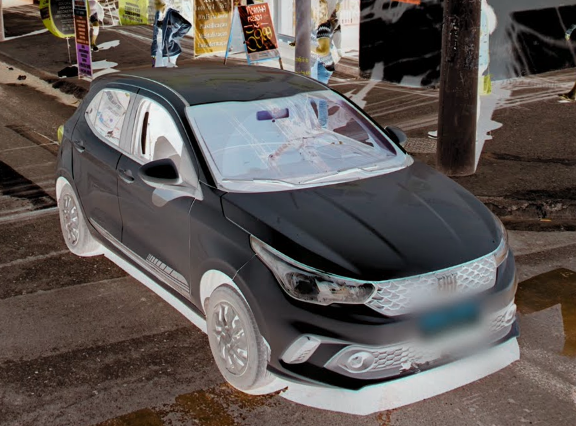car: (55, 64, 521, 391)
